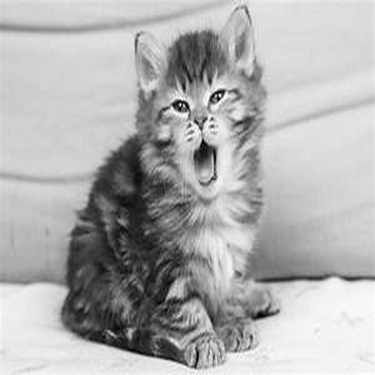cat: (60, 5, 282, 371)
